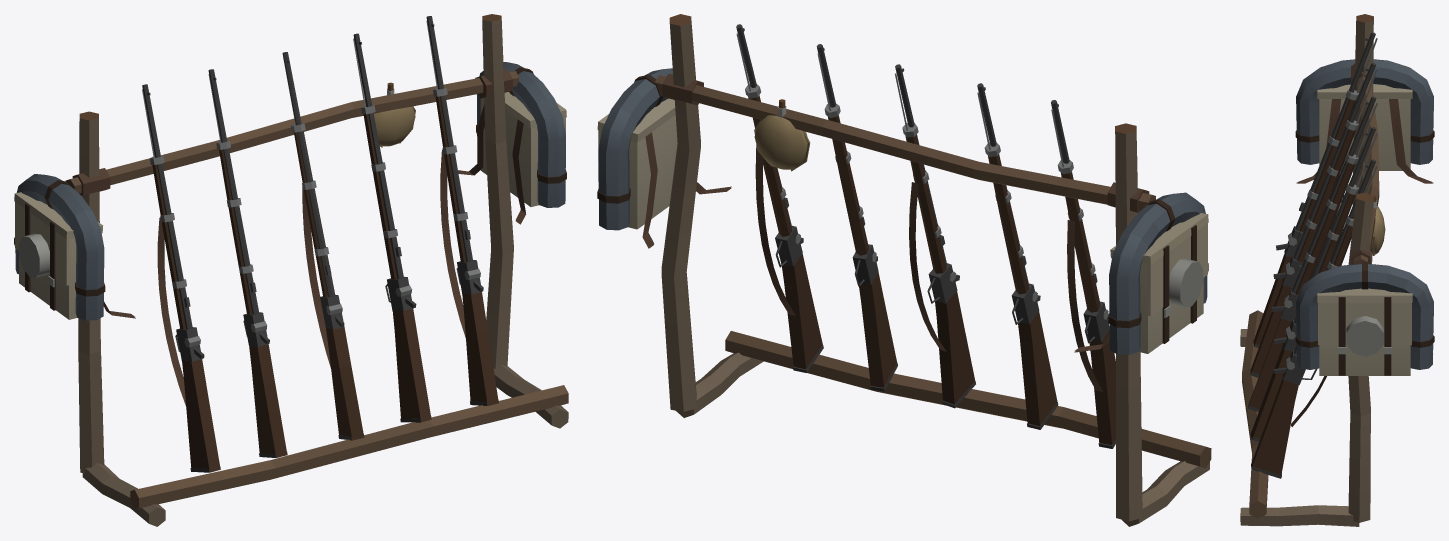
Rendered from armero.glb.
The picture shows the model from 3 angles, left to right: view 1: azimuth 30°, elevation 25°; view 2: azimuth 150°, elevation 25°; view 3: azimuth 270°, elevation 25°; orthographic projection. The views are drawn at different scales.
Visible parts, largest first — view 1: Armero; view 2: Armero; view 3: Armero.
Part boxes in pixels (x1=…): Armero: x1=14, y1=14, x2=568, y2=526; Armero: x1=597, y1=14, x2=1211, y2=526; Armero: x1=1240, y1=14, x2=1434, y2=526.
Size of what is drawn, in the model's own units: 1.95 by 1.34 by 0.6887.
